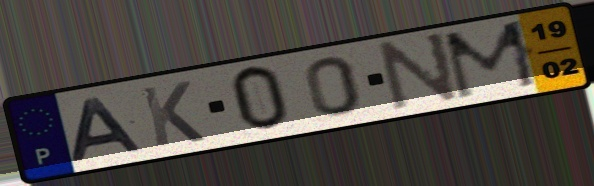0: (226, 62, 295, 136), (301, 53, 370, 120)
A: (68, 94, 148, 165)
K: (137, 79, 209, 150)
M: (438, 16, 544, 103)
N: (377, 29, 463, 114)
